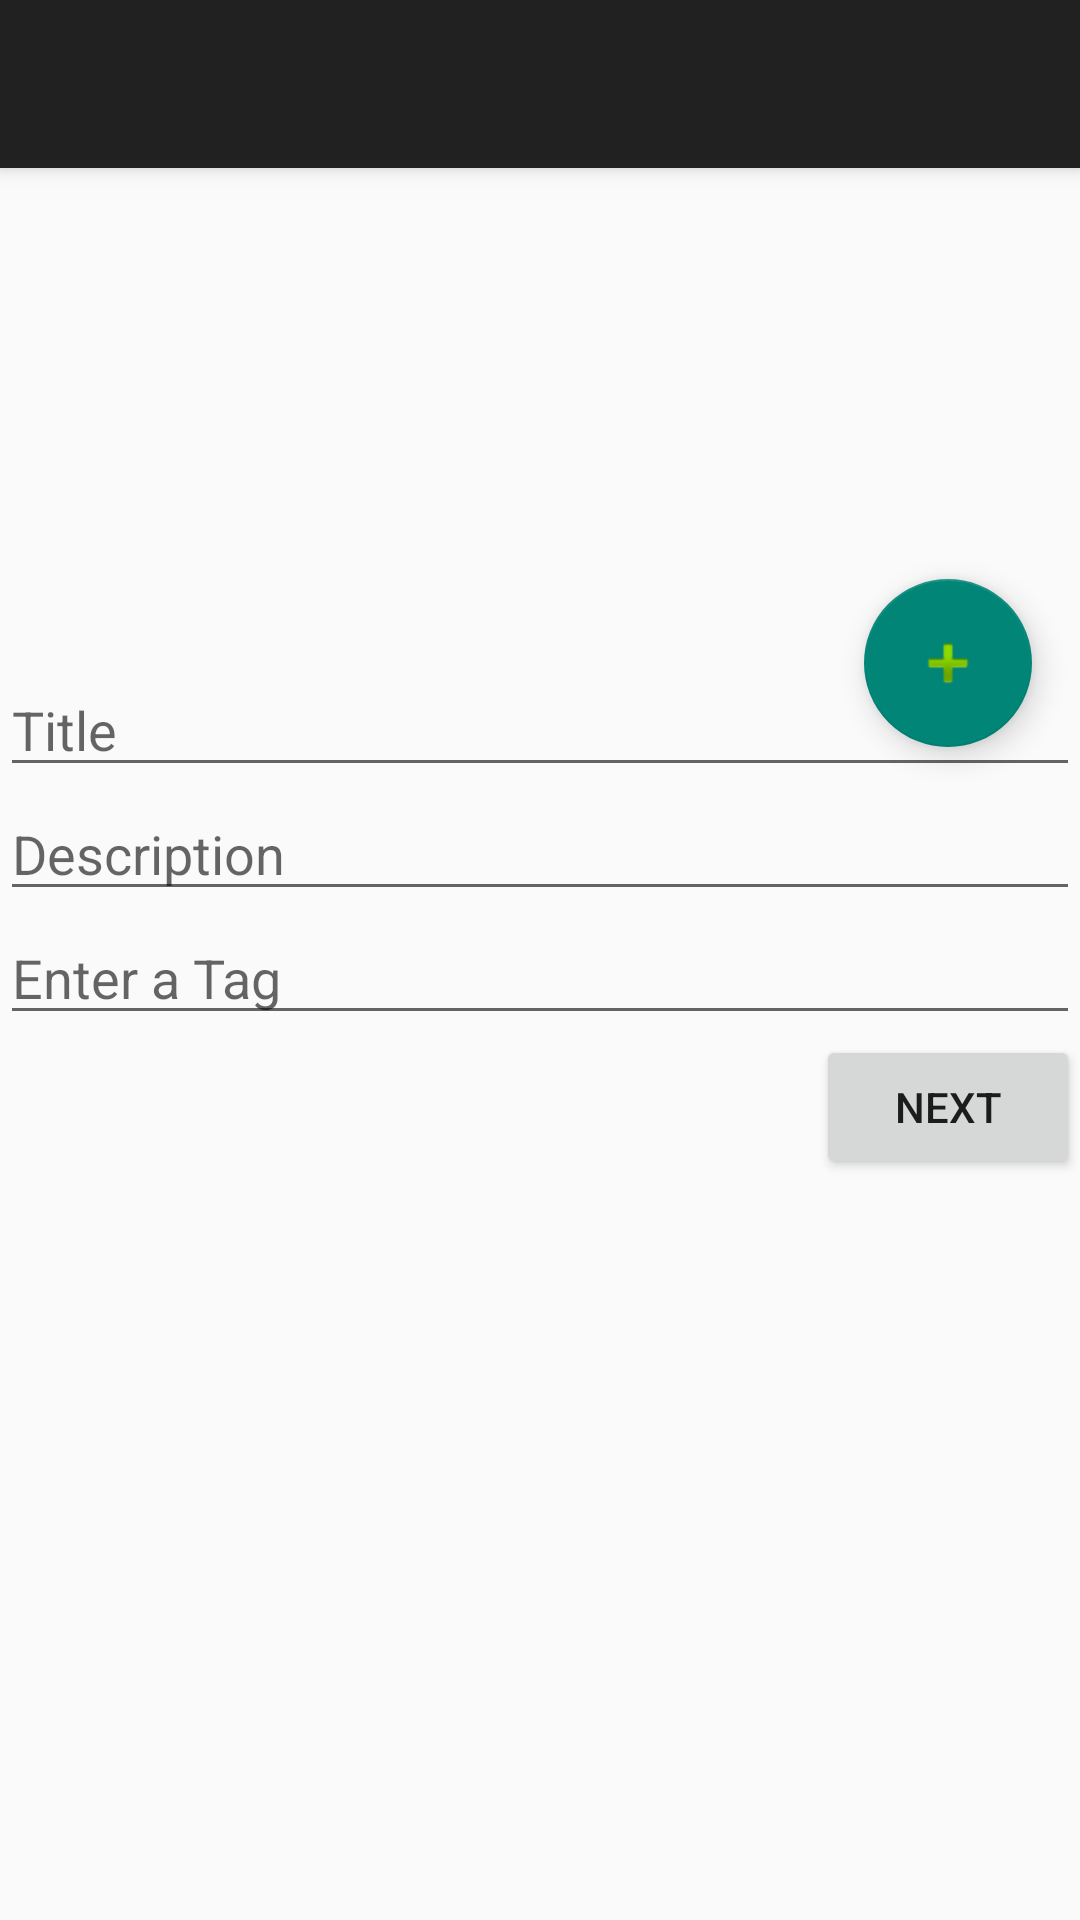

Icon click points for this 1080w x 1920h phone screenshot, format [x,y]:
add: [948,663]
